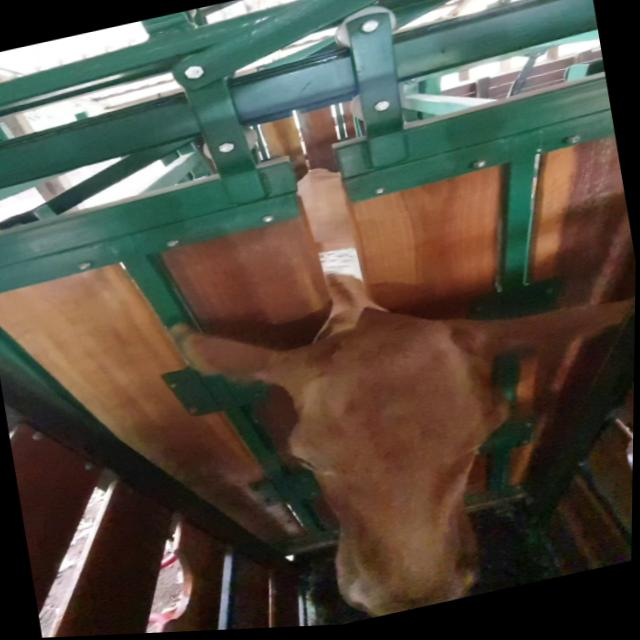cowFace: (273, 298, 544, 630)
